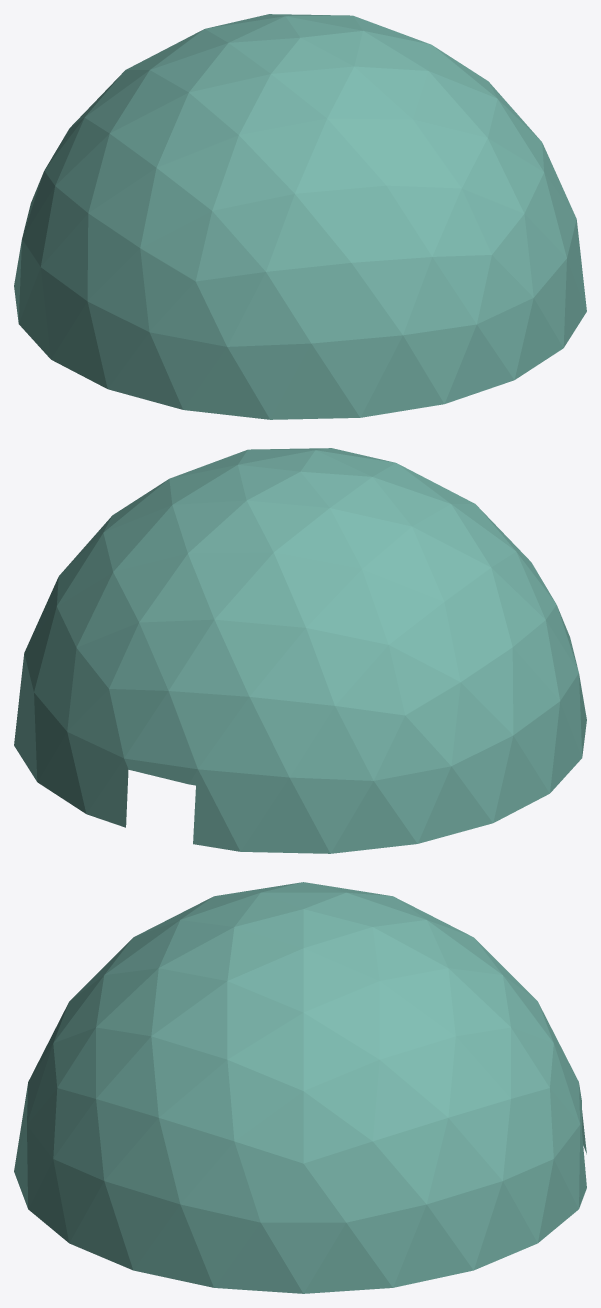
Rendered from SM_MP_Flow_DomeGlazing.fbx.
3 views of the same model, one above another, from view 1: azimuth 30°, elevation 25°; view 2: azimuth 150°, elevation 25°; view 3: azimuth 270°, elevation 25° (orthographic).
Visible parts, largest first — view 1: SM_MP_Flow_DomeGlazing; view 2: SM_MP_Flow_DomeGlazing; view 3: SM_MP_Flow_DomeGlazing.
Boxes of the visible parts, box(x1,y1,x2,y2) form: SM_MP_Flow_DomeGlazing: box(14, 14, 586, 419); SM_MP_Flow_DomeGlazing: box(14, 448, 586, 853); SM_MP_Flow_DomeGlazing: box(14, 882, 586, 1293).
Size of the model in its own units: 3800 by 3760 by 1900.
Materials: 1 (1 with a texture image).
